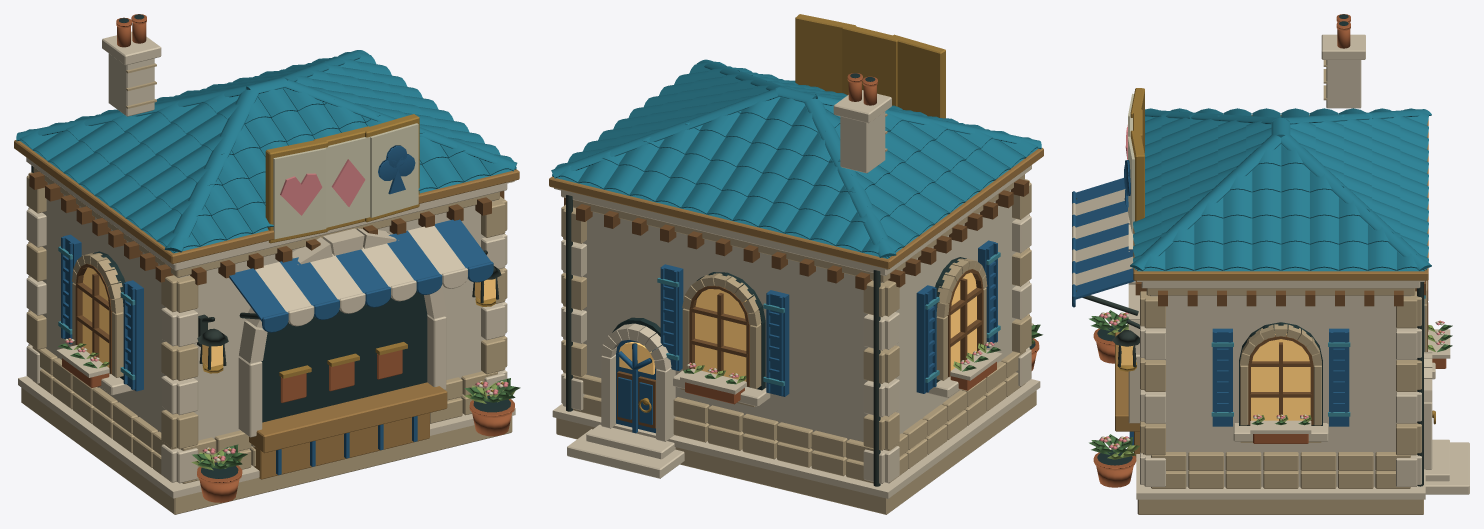
3 views of the same model, side by side, from view 1: azimuth 30°, elevation 25°; view 2: azimuth 150°, elevation 25°; view 3: azimuth 270°, elevation 25° (orthographic). The views are drawn at different scales.
Parts seen in each view (by area): view 1: harbor_card_pavilion_geometry, harbor_card_pavilion_geometry ceramic; view 2: harbor_card_pavilion_geometry, harbor_card_pavilion_geometry ceramic; view 3: harbor_card_pavilion_geometry, harbor_card_pavilion_geometry ceramic.
Part boxes in pixels (box(x1,y1,x2,y2)): harbor_card_pavilion_geometry: box(14, 14, 520, 514); harbor_card_pavilion_geometry ceramic: box(16, 50, 517, 379); harbor_card_pavilion_geometry: box(549, 14, 1043, 514); harbor_card_pavilion_geometry ceramic: box(551, 59, 1041, 386); harbor_card_pavilion_geometry: box(1072, 14, 1469, 514); harbor_card_pavilion_geometry ceramic: box(1130, 108, 1431, 416).
Size of the model in its own units: 1.04 by 1.01 by 0.9768.
